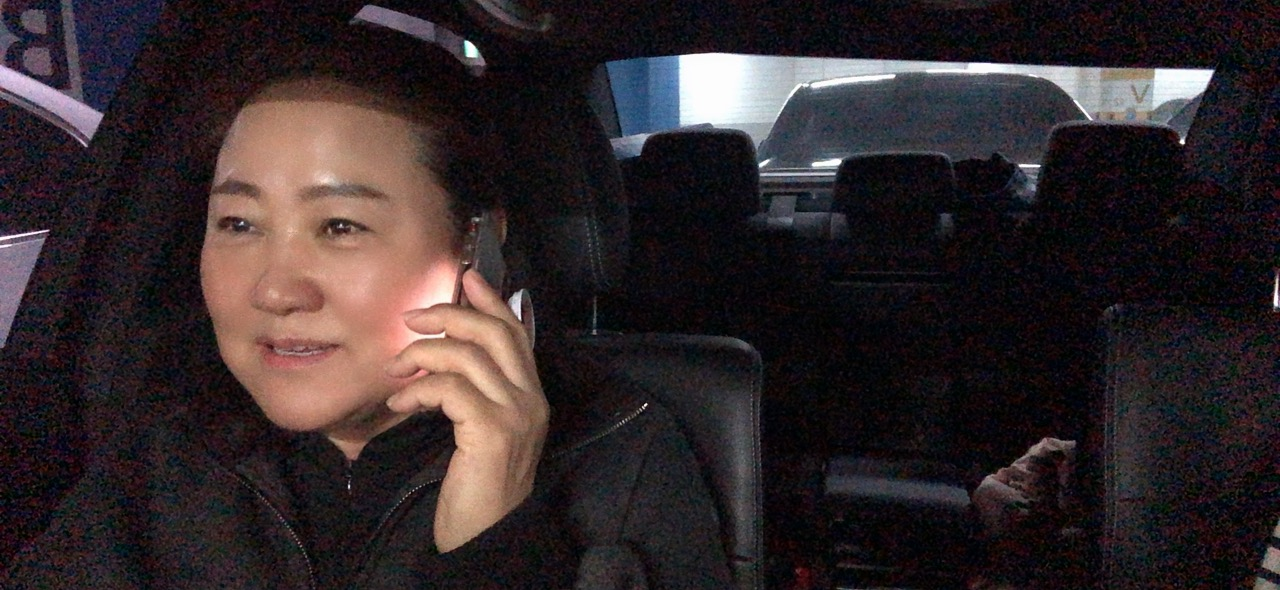phone: (15, 14, 742, 590)
